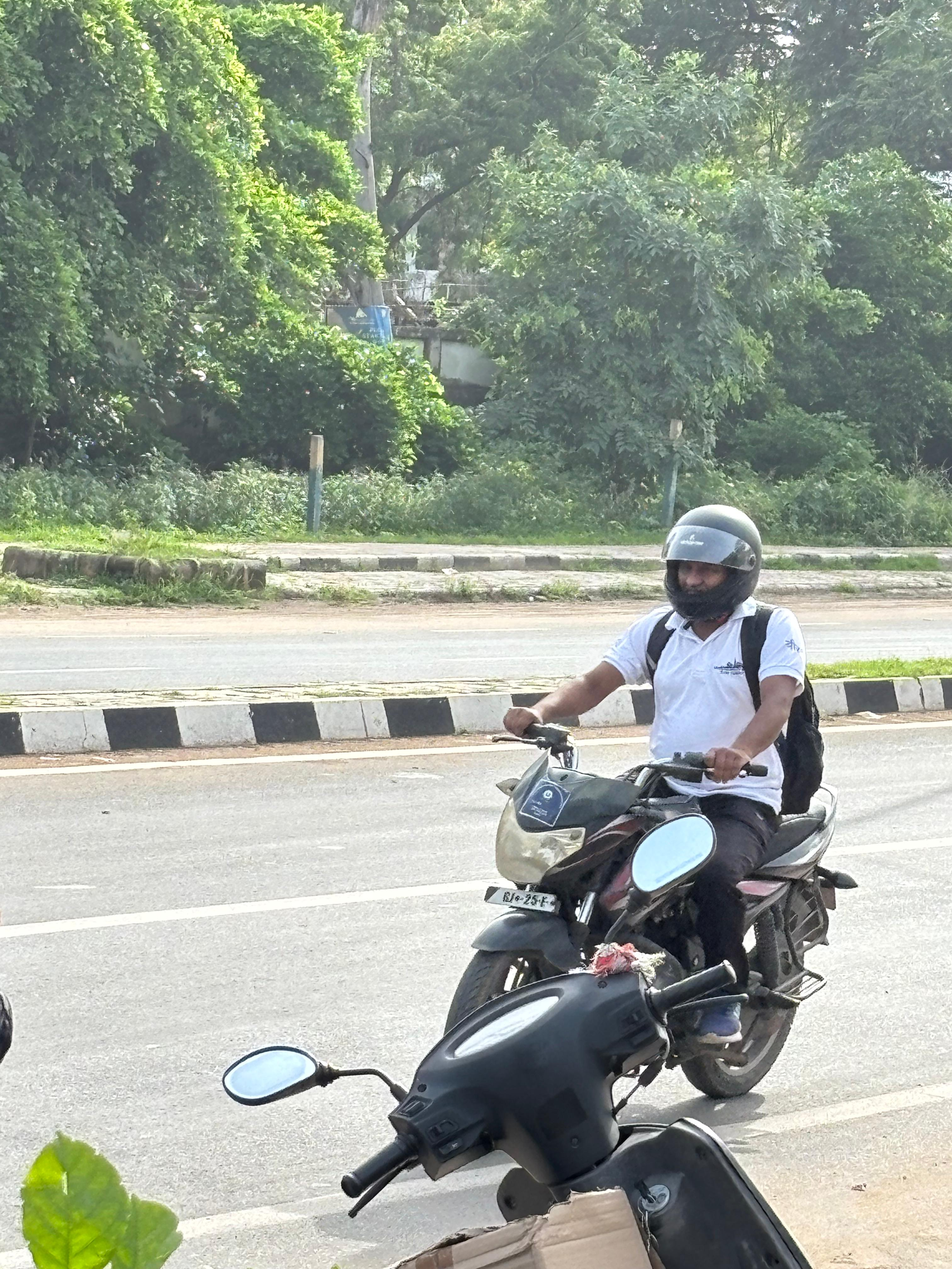BikeWithRider: (423, 488, 868, 1116)
Helmet: (646, 492, 777, 628)
